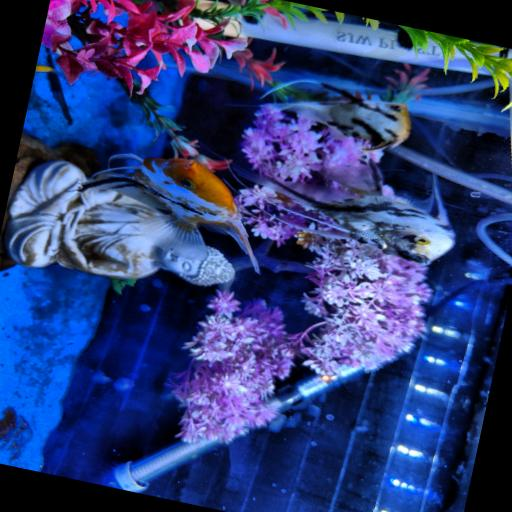Fish: (233, 161, 454, 264), (82, 153, 258, 271), (260, 78, 409, 150), (35, 64, 54, 71)
